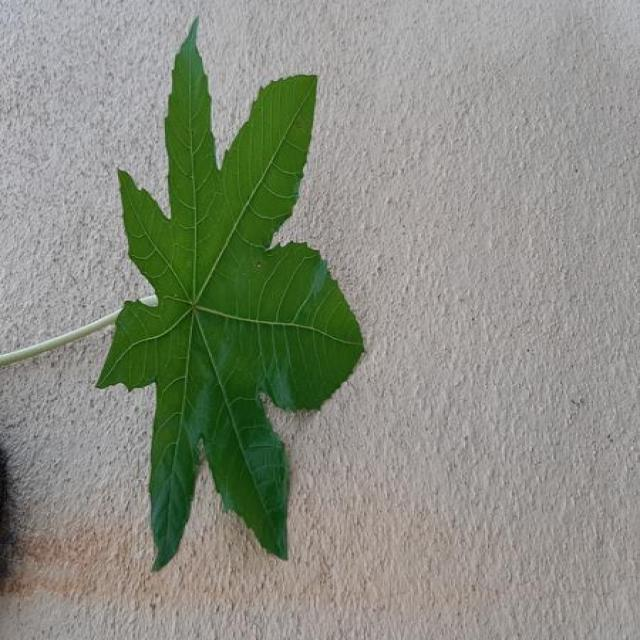castor: (97, 21, 363, 568)
